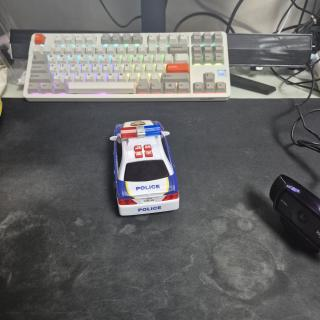Police_car: (110, 120, 180, 215)
